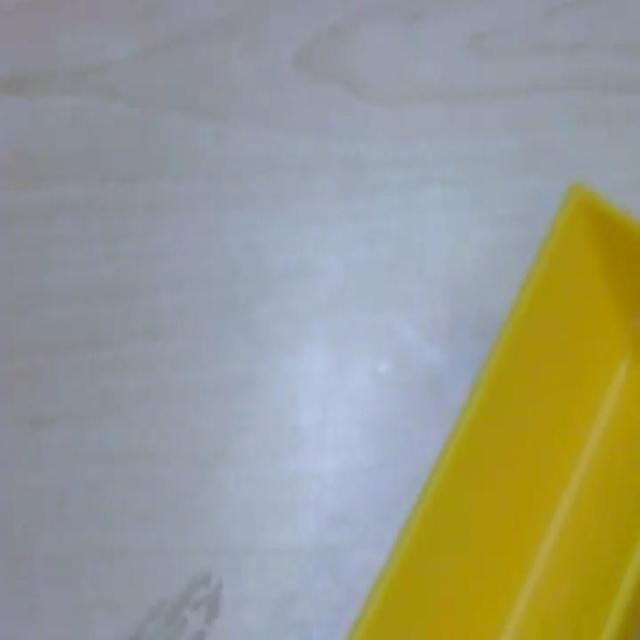yellow_block: (346, 180, 638, 637)
